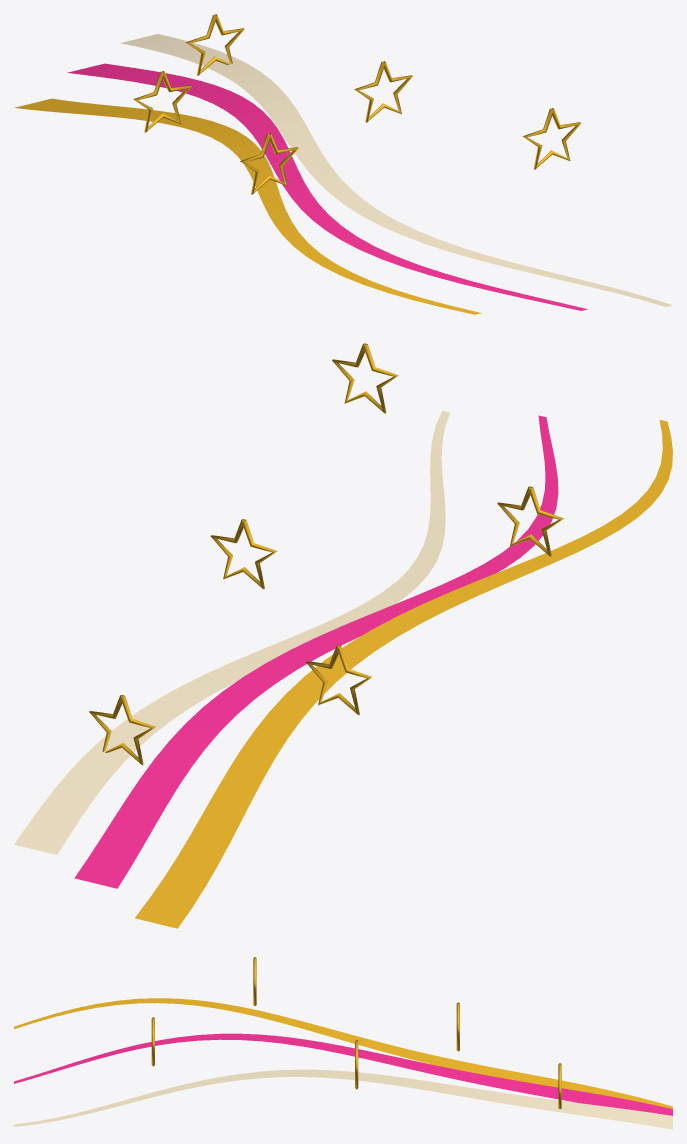
File: podium-trail.glb
3 views of the same model, one above another, from view 1: azimuth 30°, elevation 25°; view 2: azimuth 150°, elevation 25°; view 3: azimuth 270°, elevation 25° (orthographic). The views are drawn at different scales.
Parts seen in each view (by area): view 1: podium_ribbon_2, podium_ribbon_1, podium_ribbon_0, embroidered_crest.001, embroidered_crest.002, embroidered_crest.004, embroidered_crest.003, embroidered_crest; view 2: podium_ribbon_0, podium_ribbon_1, podium_ribbon_2, embroidered_crest.002, embroidered_crest.003, embroidered_crest.004, embroidered_crest.001, embroidered_crest; view 3: podium_ribbon_2, podium_ribbon_1, podium_ribbon_0.
Part boxes in pixels (<box>): podium_ribbon_2: <box>120,34,672,306</box>; podium_ribbon_1: <box>67,63,587,310</box>; podium_ribbon_0: <box>14,98,481,314</box>; embroidered_crest.001: <box>133,71,191,132</box>; embroidered_crest.002: <box>354,61,412,122</box>; embroidered_crest.004: <box>523,108,580,169</box>; embroidered_crest.003: <box>240,133,298,194</box>; embroidered_crest: <box>186,14,244,75</box>; podium_ribbon_0: <box>135,420,672,928</box>; podium_ribbon_1: <box>74,415,558,888</box>; podium_ribbon_2: <box>14,411,449,854</box>; embroidered_crest.002: <box>210,519,277,589</box>; embroidered_crest.003: <box>497,486,563,556</box>; embroidered_crest.004: <box>332,343,398,413</box>; embroidered_crest.001: <box>306,645,371,715</box>; embroidered_crest: <box>89,695,155,764</box>; podium_ribbon_2: <box>14,1069,672,1129</box>; podium_ribbon_1: <box>14,1033,672,1115</box>; podium_ribbon_0: <box>14,998,672,1108</box>.
Bounding box in the file's own units: 0.6161 × 0.4564 × 1.75.
